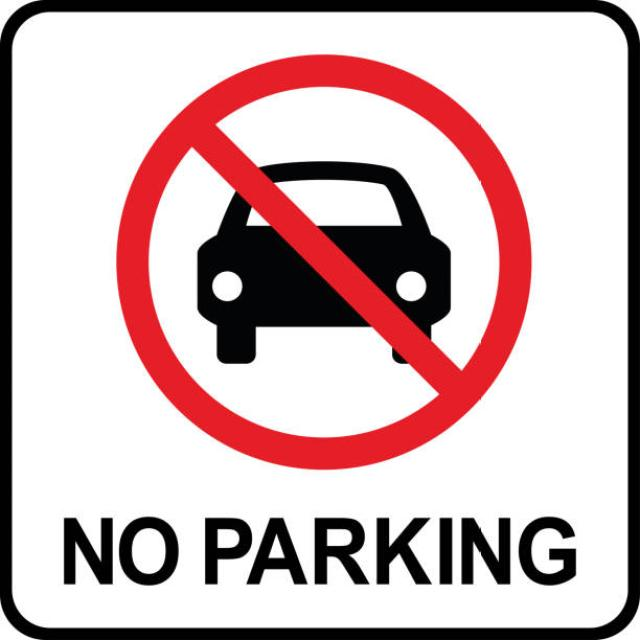Traffic sign: (34, 29, 608, 618)
